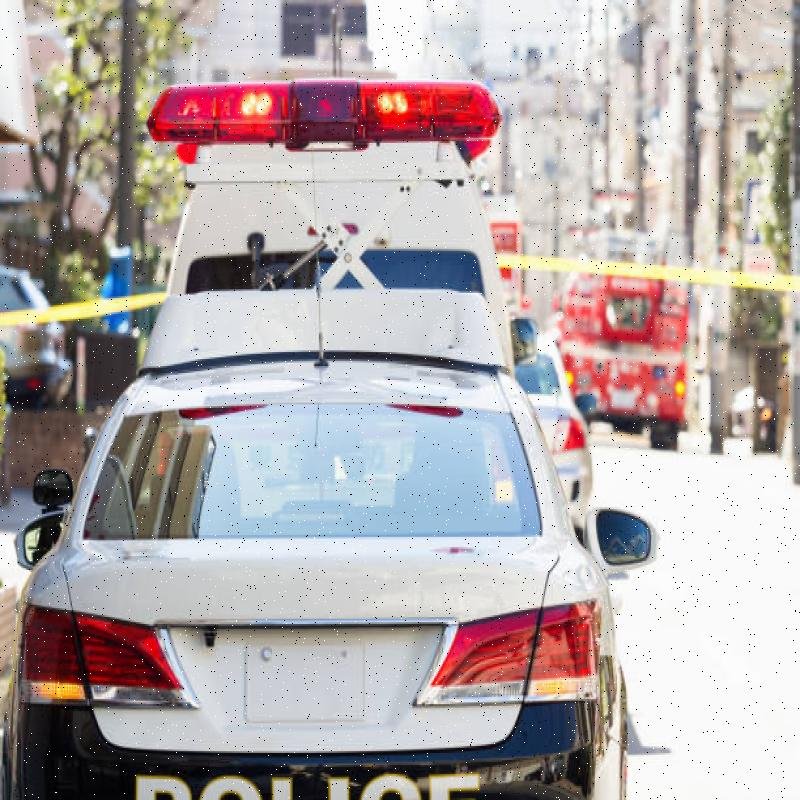AmbulanceSiren: (141, 44, 515, 171)
